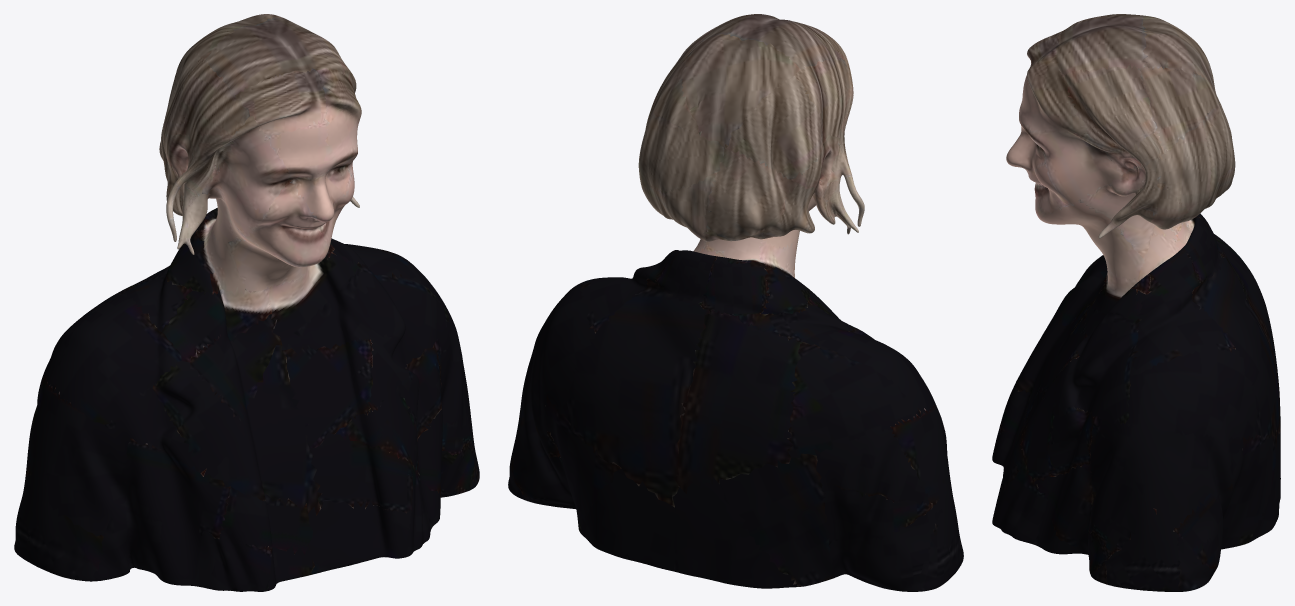
The model's file is Carey_Mulligan_face_compressed.glb.
3 views of the same model, side by side, from view 1: azimuth 30°, elevation 25°; view 2: azimuth 150°, elevation 25°; view 3: azimuth 270°, elevation 25° (orthographic). The views are drawn at different scales.
Size of the model in its own units: 1.76 by 1.9 by 1.06.
Materials: 1 (1 with a texture image).
